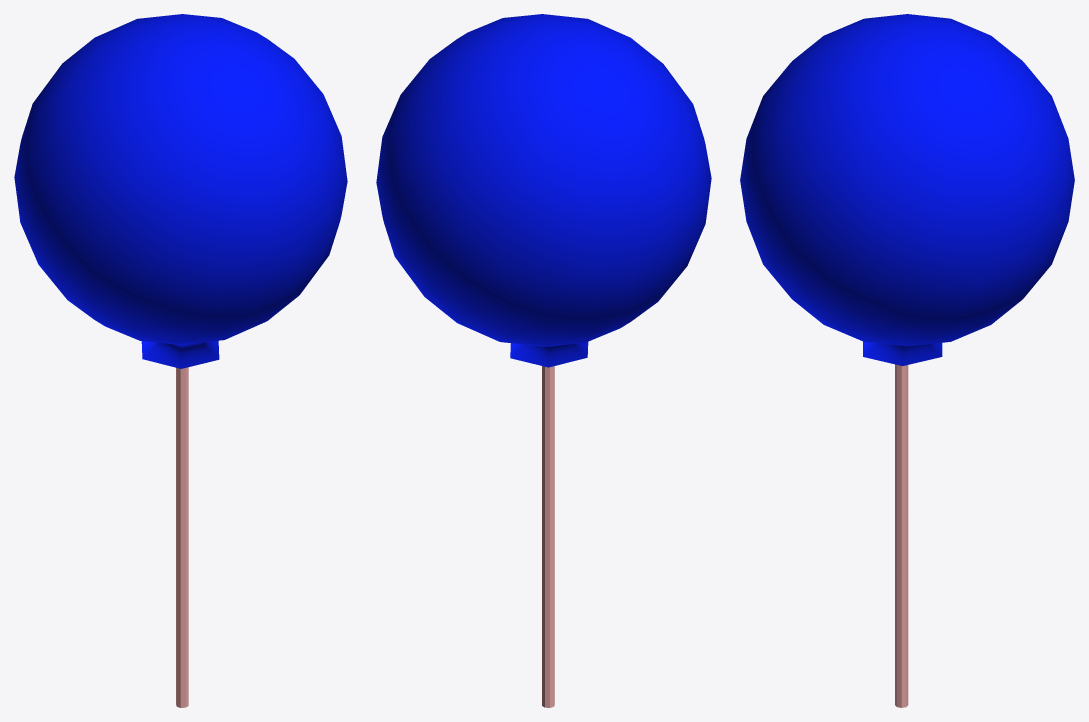
The model's file is sharik_dark_blue 1.fbx.
3 views of the same model, side by side, from view 1: azimuth 30°, elevation 25°; view 2: azimuth 150°, elevation 25°; view 3: azimuth 270°, elevation 25° (orthographic).
Parts seen in each view (by area): view 1: sharik_dark_blue, Cylinder, Cone; view 2: sharik_dark_blue, Cylinder, Cone; view 3: sharik_dark_blue, Cylinder, Cone.
Part boxes in pixels (x1,y1,x2,y2): sharik_dark_blue: (14, 14, 347, 344); Cylinder: (176, 367, 188, 707); Cone: (141, 340, 219, 368); sharik_dark_blue: (376, 14, 711, 346); Cylinder: (542, 366, 554, 707); Cone: (510, 342, 588, 367); sharik_dark_blue: (740, 14, 1074, 346); Cylinder: (895, 364, 908, 707); Cone: (863, 341, 942, 365).
Bounding box in the file's own units: 100 × 223 × 100.
